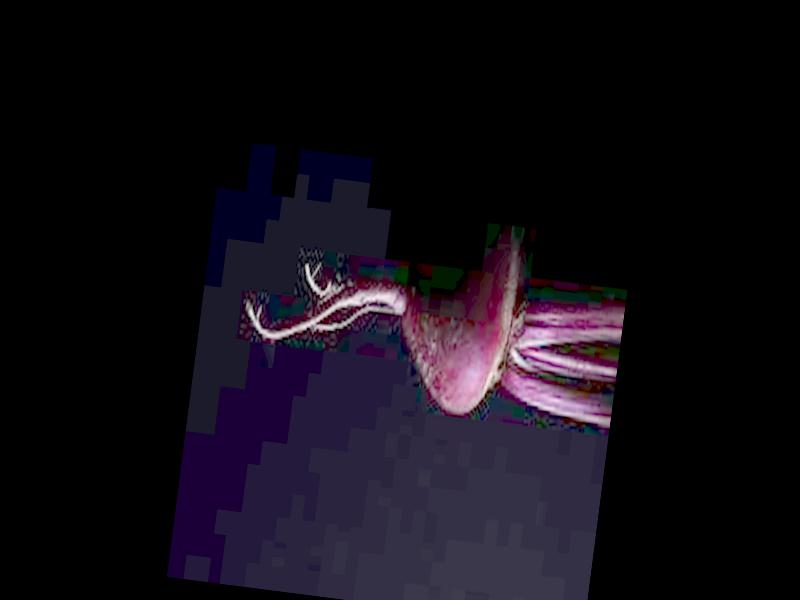Beet: (234, 193, 631, 444)
